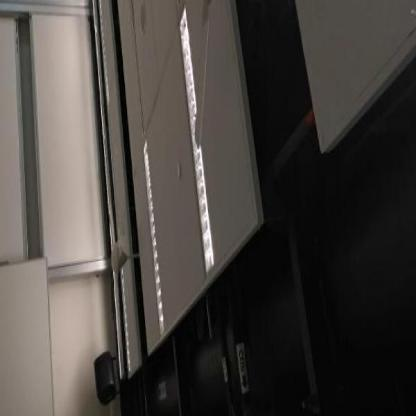light_on: (174, 0, 219, 266), (139, 127, 170, 352), (117, 262, 132, 378)
